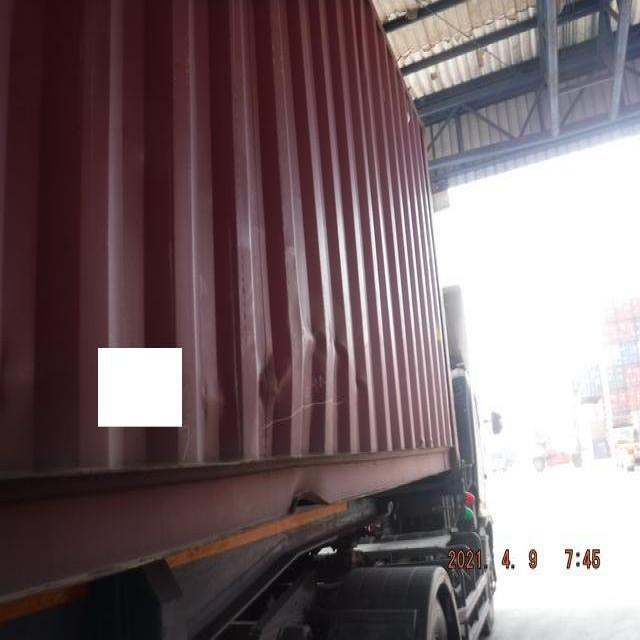Dent: (235, 288, 352, 415)
